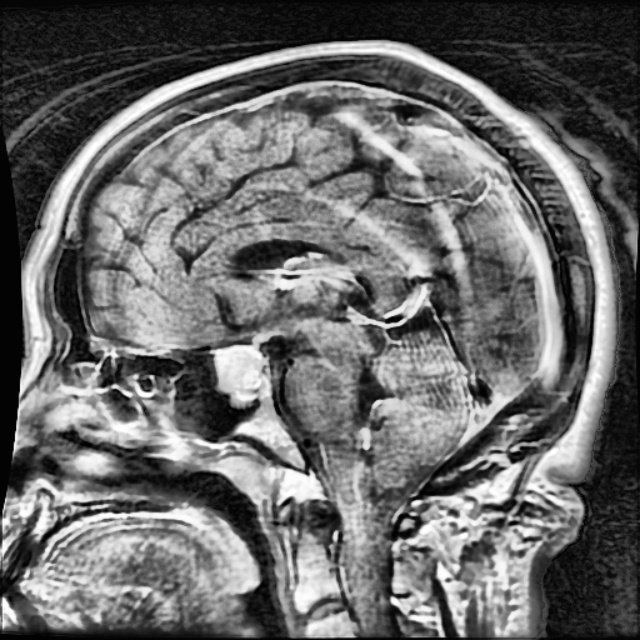Pituitary: (215, 347, 263, 398)
